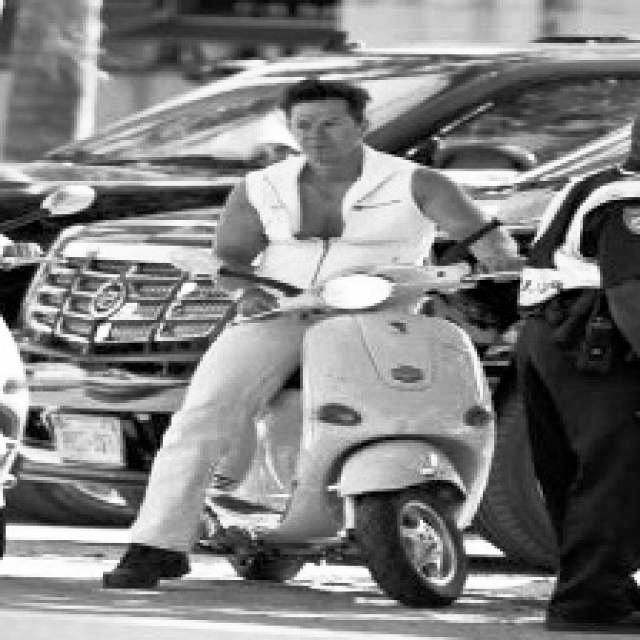Bike: (255, 272, 507, 602)
